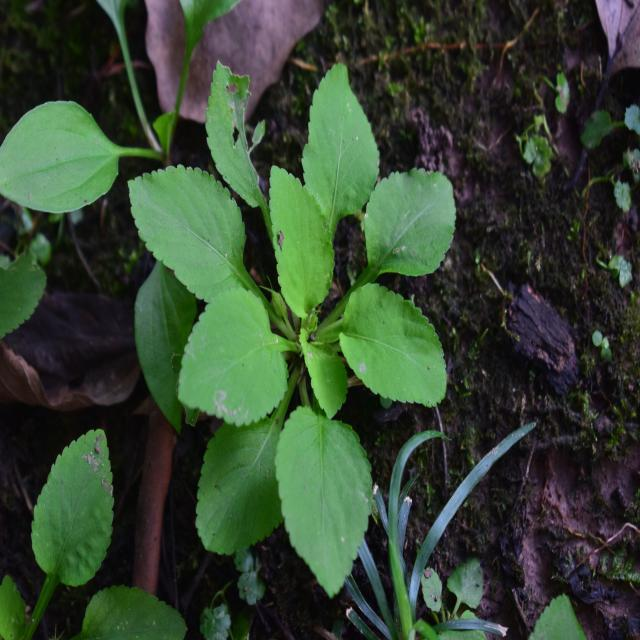Viola: (144, 87, 448, 564)
